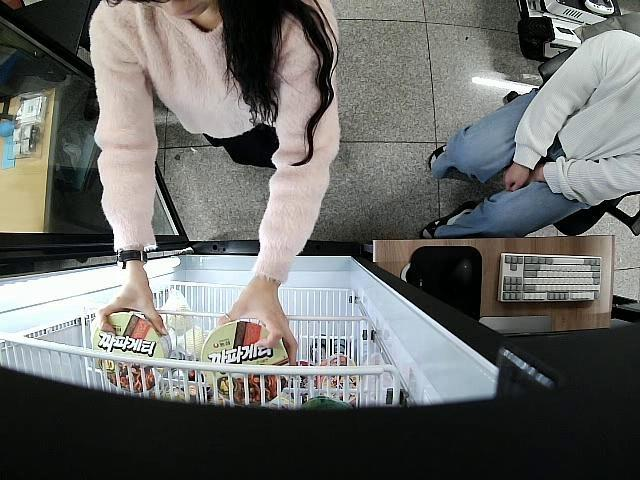03_chapagetti_L: (202, 321, 290, 406), (90, 314, 173, 390)
